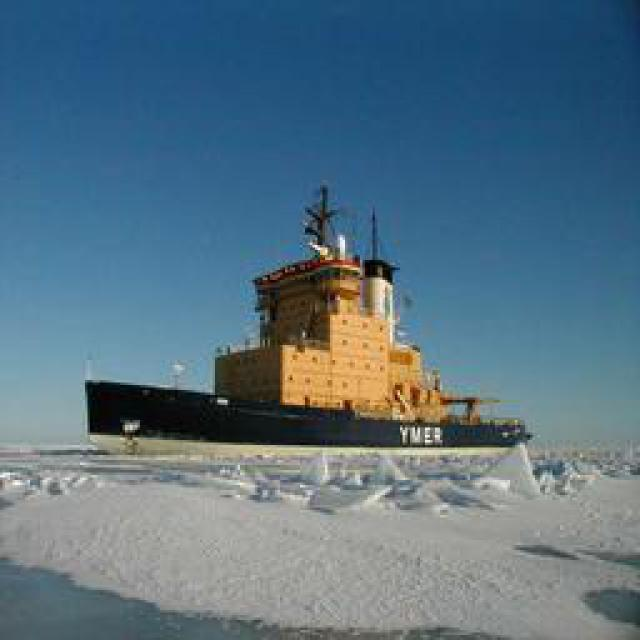Ship: (75, 181, 540, 481)
